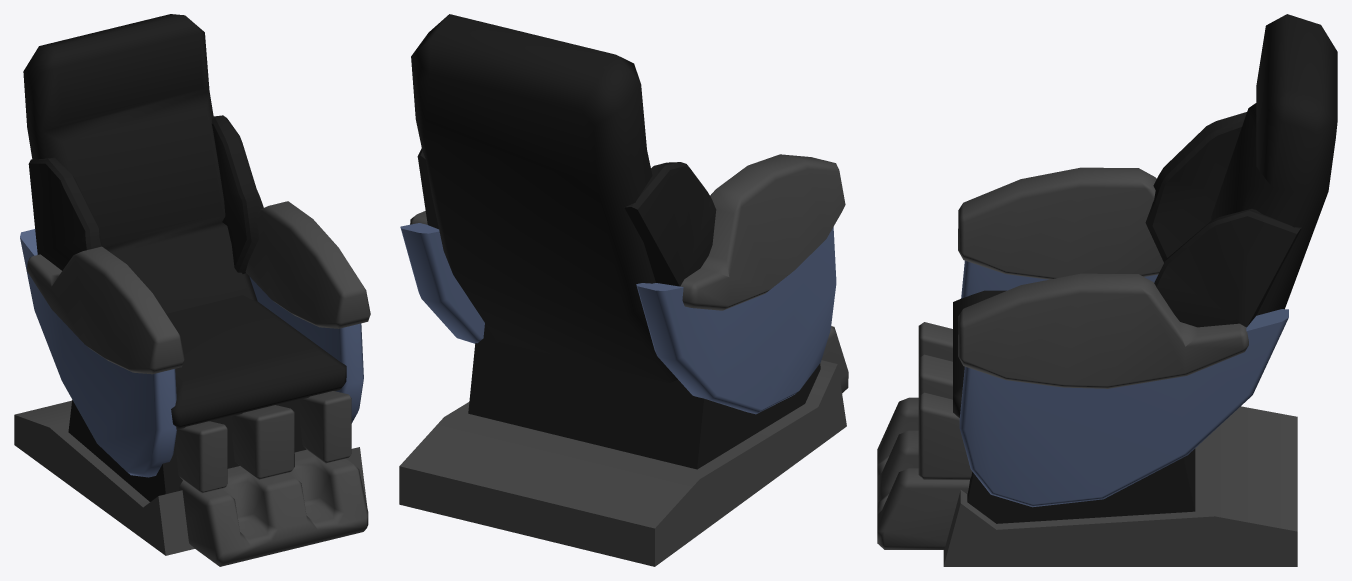
File: massagechair.fbx
3 views of the same model, side by side, from view 1: azimuth 30°, elevation 25°; view 2: azimuth 150°, elevation 25°; view 3: azimuth 270°, elevation 25° (orthographic). The views are drawn at different scales.
Visible parts, largest first — view 1: massagechair1; view 2: massagechair1; view 3: massagechair1.
Boxes of the visible parts, box(x1,y1,x2,y2) form: massagechair1: box(14, 14, 370, 566); massagechair1: box(399, 14, 848, 566); massagechair1: box(877, 14, 1337, 566).
Size of the model in its own units: 1.72 by 2.83 by 2.58.
